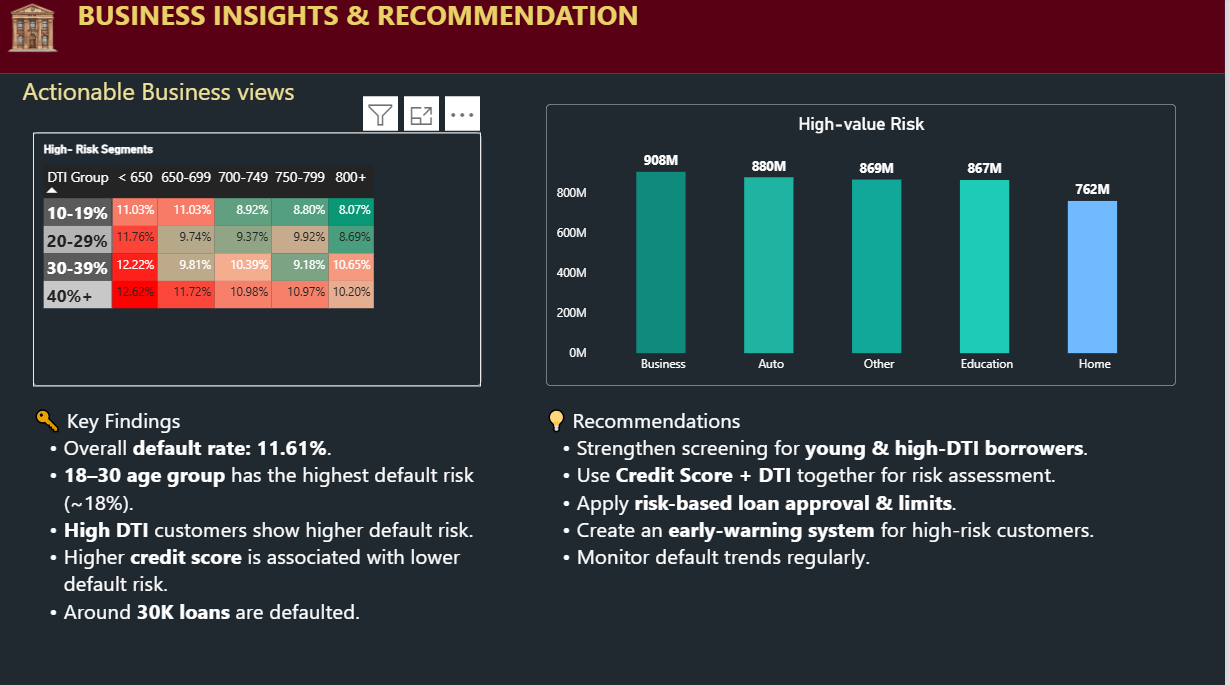

What the dashboard file says about the page in this screenshot:
{"tool":"powerbi","page":{"name":"business insights","canvas":[1920,1080],"ordinal":3},"visuals":[{"type":"shape","box":[0,0,1920.1,121.9],"z":0},{"type":"textbox","box":[0,0,1920.1,89.1],"z":1000},{"type":"image","box":[0,9.4,112.5,79.7],"z":2000},{"type":"textbox","box":[39.9,121.9,475.9,68],"z":3000},{"type":"pivotTable","title":"High- Risk Segments","fields":{"Rows":["Loan_data.DTI Group"],"Columns":["Loan_data.Credit Score Group"],"Values":["Loan_data.Default Rate"]},"box":[56.3,213.3,701,396.2],"z":4000},{"type":"clusteredColumnChart","title":"High-value Risk","fields":{"Category":["Loan_data.LoanPurpose"],"Y":["Loan_data.Defaulted Loan Amount"]},"box":[858.1,168.8,984.7,440.8],"z":5000},{"type":"textbox","box":[56.3,640,701,440.8],"z":6000},{"type":"textbox","box":[858,640,985,440],"z":6001}]}

Visuals, with their boxes in screenshot pixels (x1, y1, x2, y2), scaled from the page's 1920x1080 canvas onto the 1230x685 screenshot:
shape: locate(0, 0, 1229, 77)
textbox: locate(0, 0, 1229, 57)
image: locate(0, 6, 72, 57)
textbox: locate(26, 77, 330, 120)
"High- Risk Segments" pivotTable: locate(36, 135, 485, 387)
"High-value Risk" clusteredColumnChart: locate(550, 107, 1181, 387)
textbox: locate(36, 406, 485, 684)
textbox: locate(550, 406, 1181, 684)
